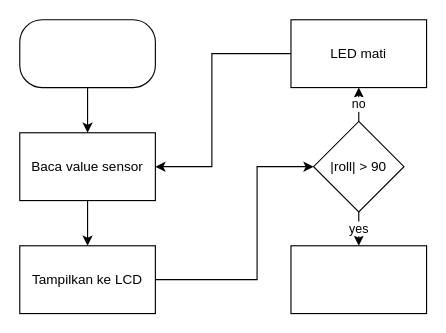
The diagram is 446 pixels wide and 333 high, and some of its shapes have lost their labels. Each missing label, with the centre of its shape:
LED berkedip: the point at 358,279
Mulai: the point at 87,53
